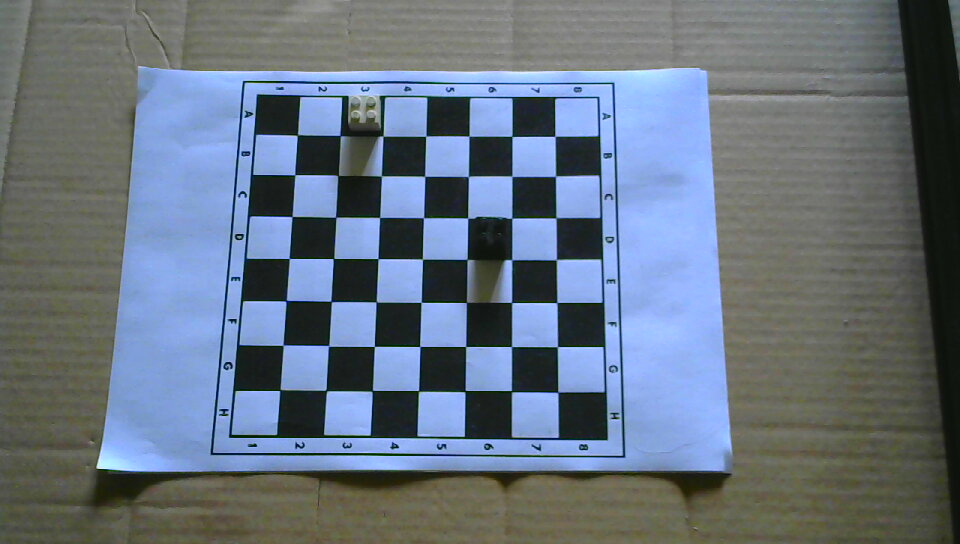bp: (472, 215, 509, 257)
wp: (346, 93, 382, 131)
